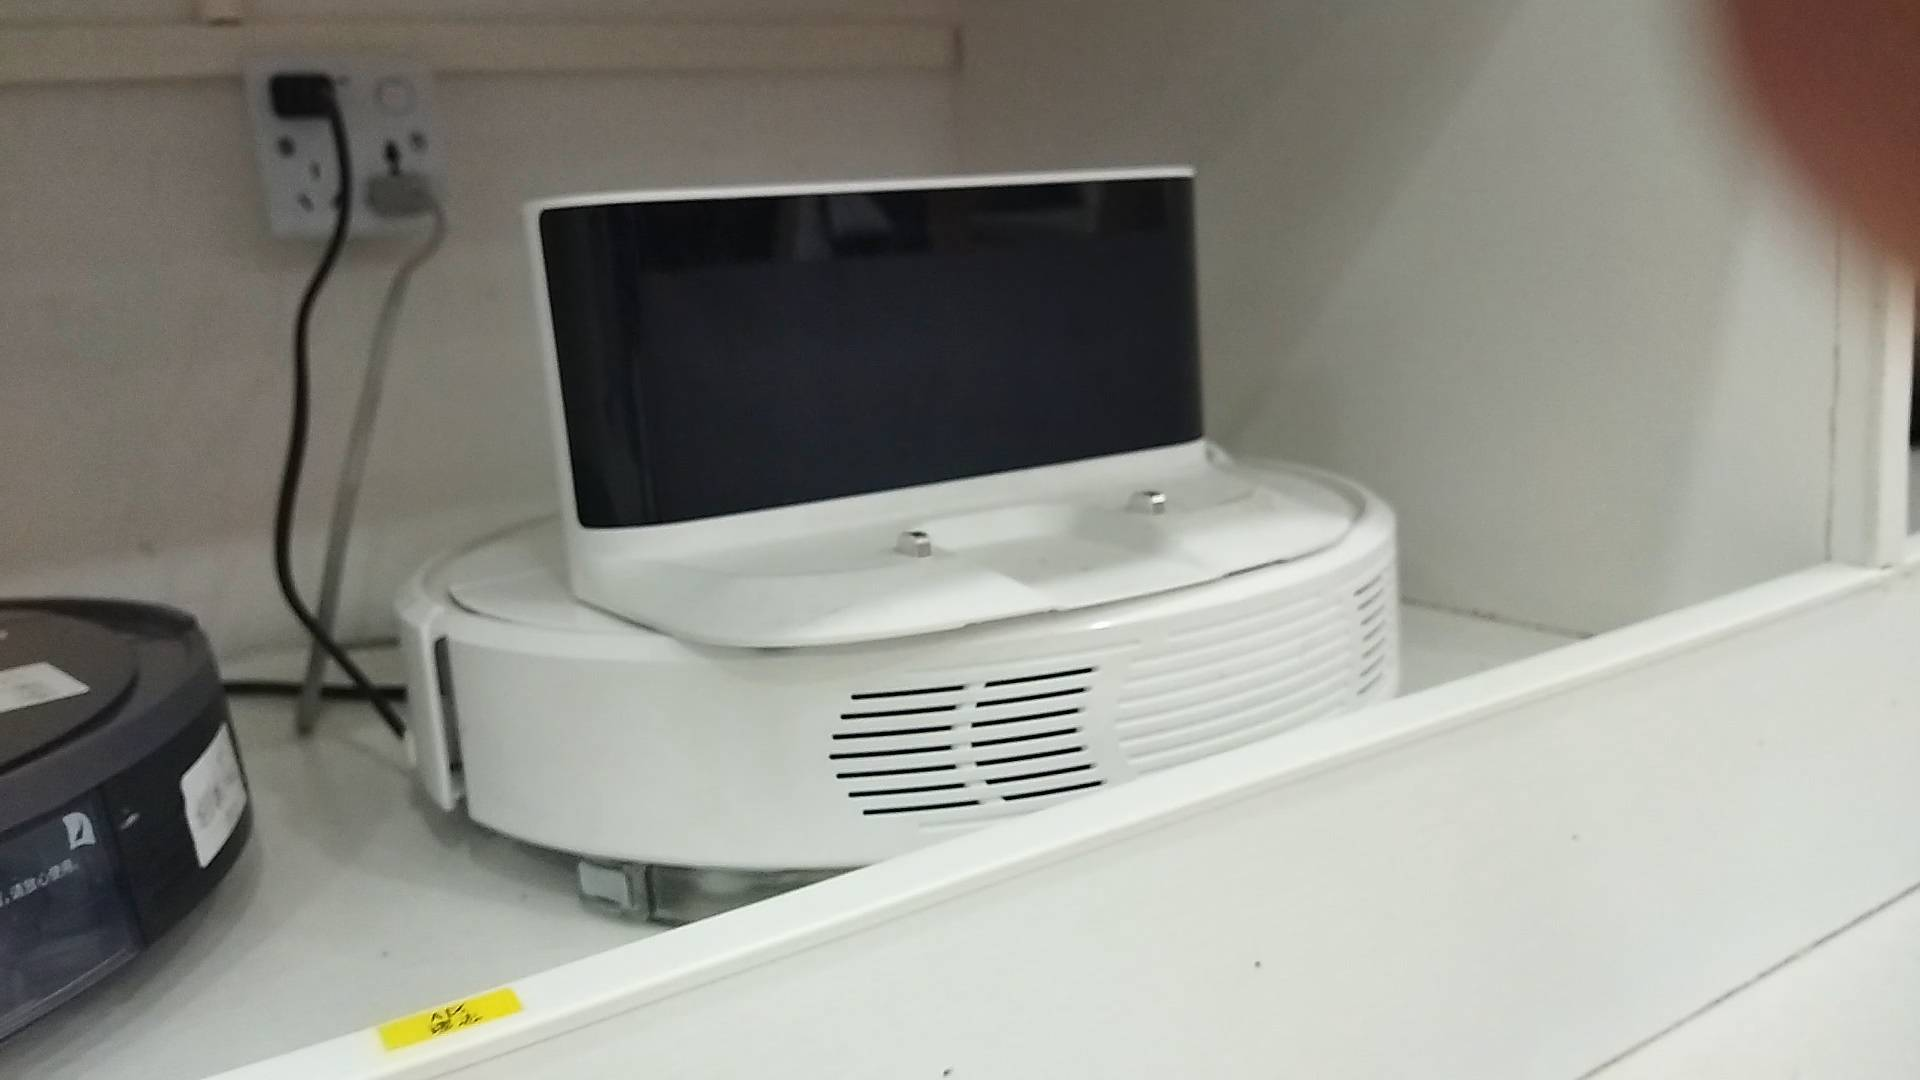recharge seat: (521, 161, 1357, 655)
